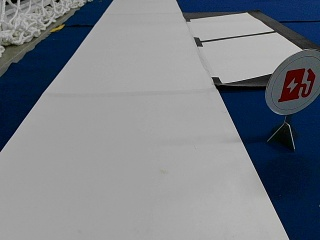battery: (265, 49, 318, 115)
